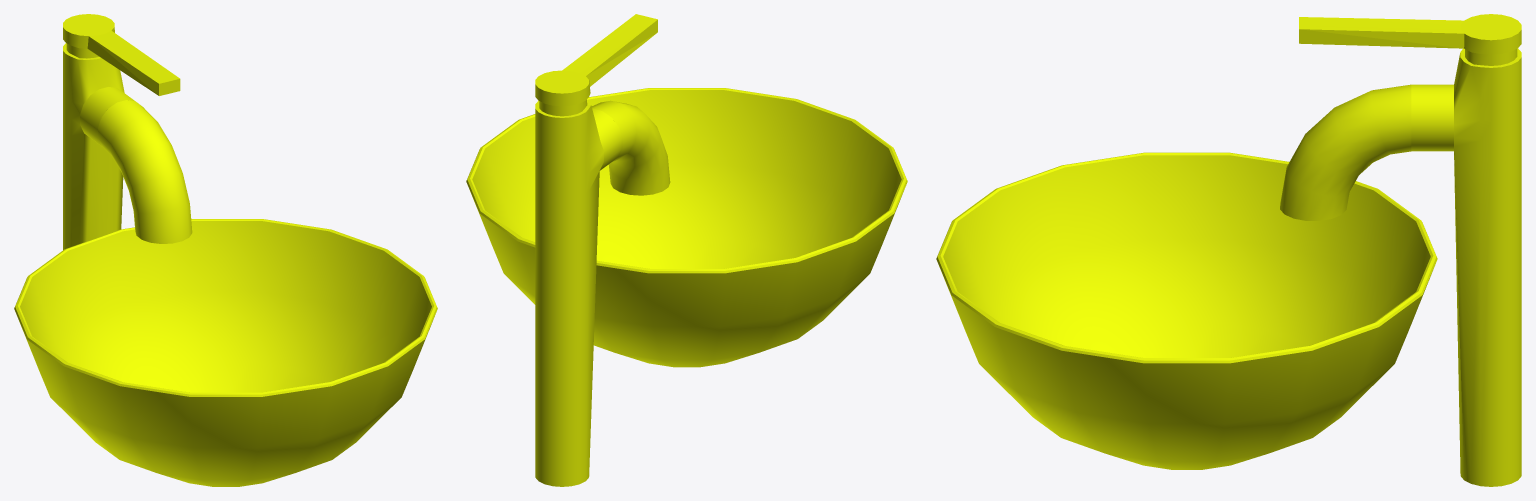
The model's file is Sink3.FBX.
The picture shows the model from 3 angles, left to right: view 1: azimuth 30°, elevation 25°; view 2: azimuth 150°, elevation 25°; view 3: azimuth 270°, elevation 25°; orthographic projection. The views are drawn at different scales.
Parts seen in each view (by area): view 1: Sphere002; view 2: Sphere002; view 3: Sphere002.
Boxes of the visible parts, <box> form: Sphere002: <box>14,14,437,486</box>; Sphere002: <box>466,14,907,486</box>; Sphere002: <box>936,14,1521,486</box>.
Bounding box in the file's own units: 0.6735 × 0.6781 × 0.7985.
